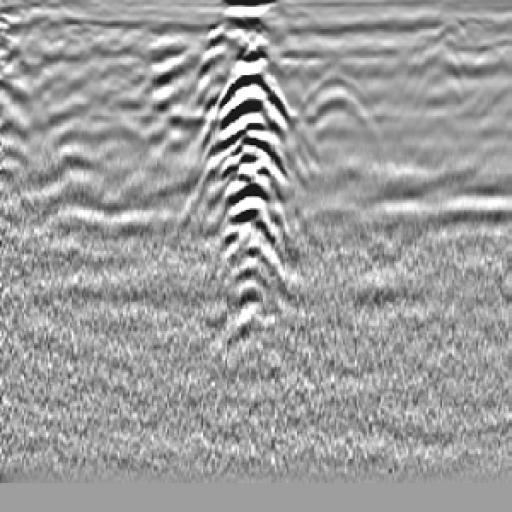metalic: (196, 13, 298, 347)
nonmetalic: (282, 74, 396, 179)
